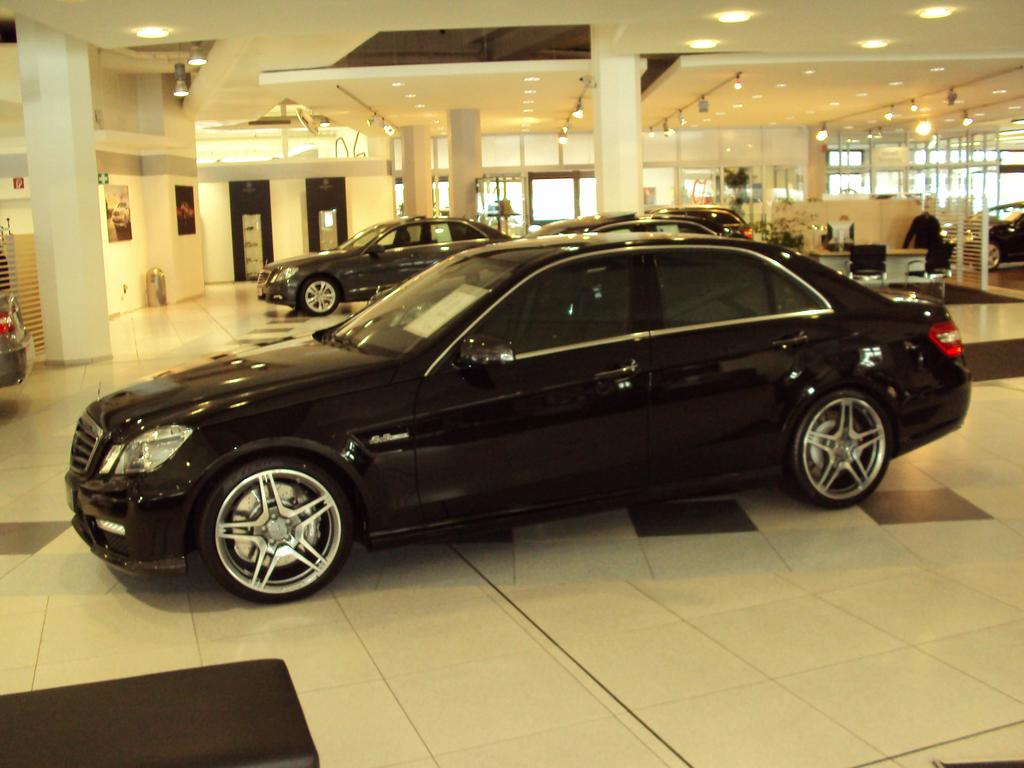mobil: (65, 235, 972, 576)
